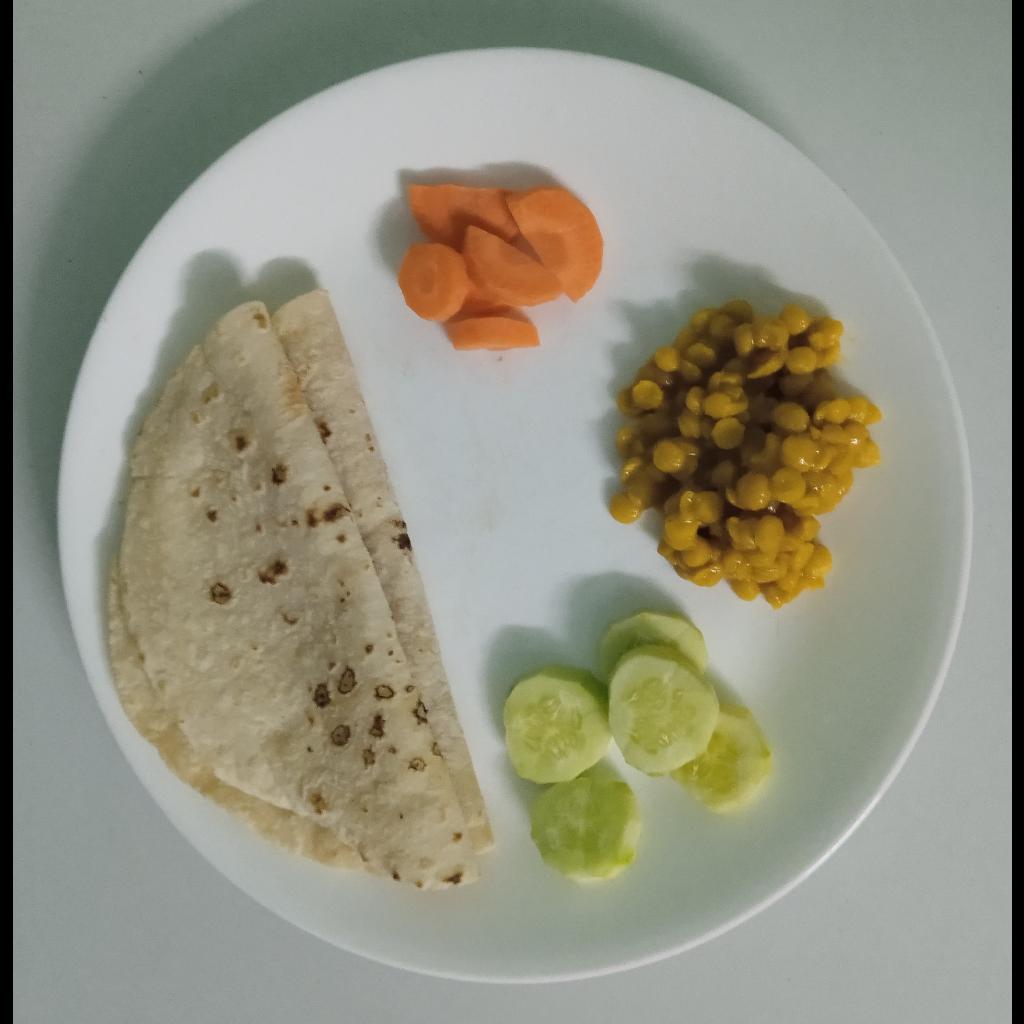carrot: (397, 179, 607, 354)
cucumber: (498, 613, 773, 890)
daal: (612, 295, 883, 607)
ruti: (108, 286, 500, 892)
